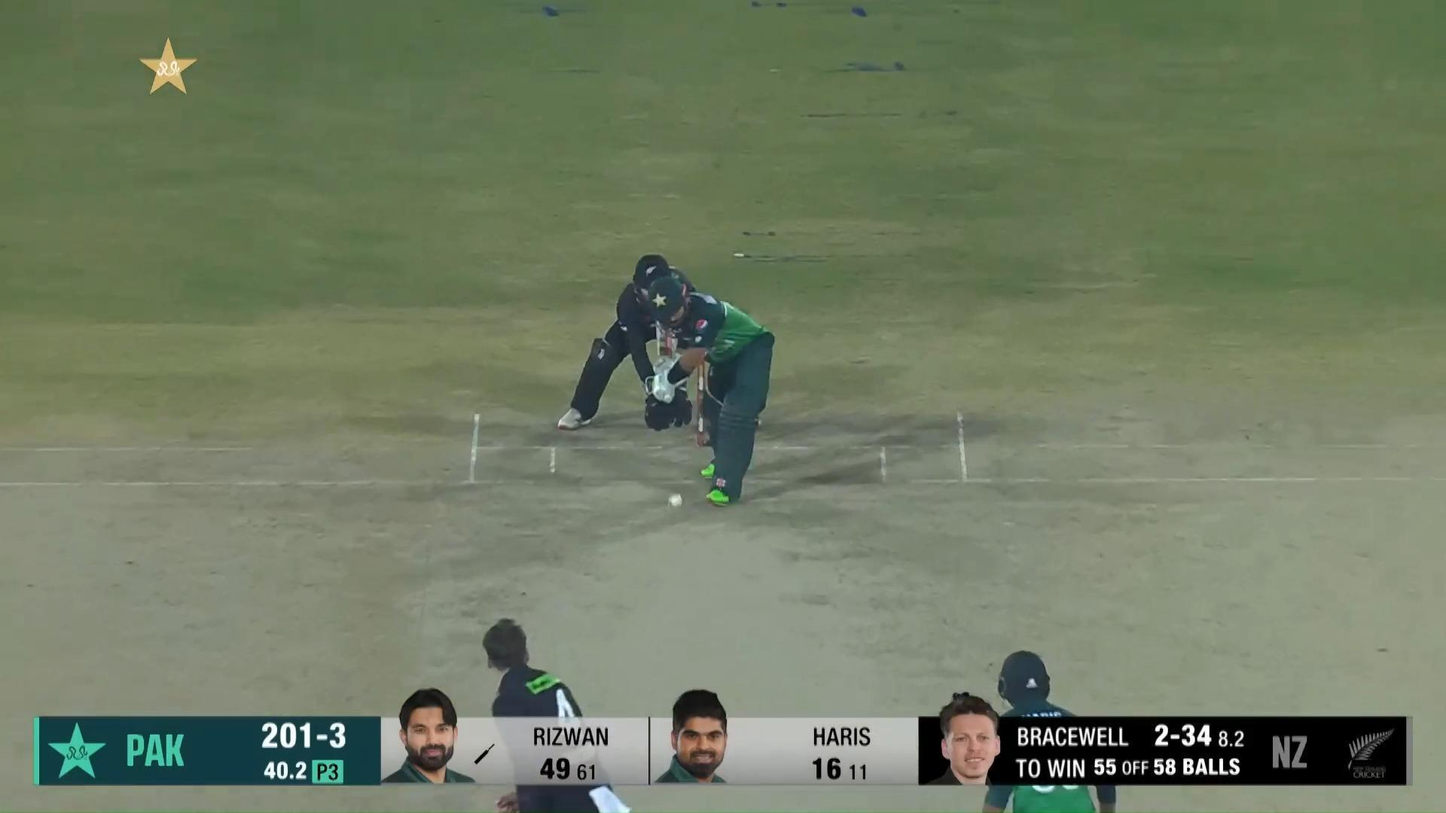BM 1: (647, 277, 775, 508)
BO: (482, 615, 632, 813)
